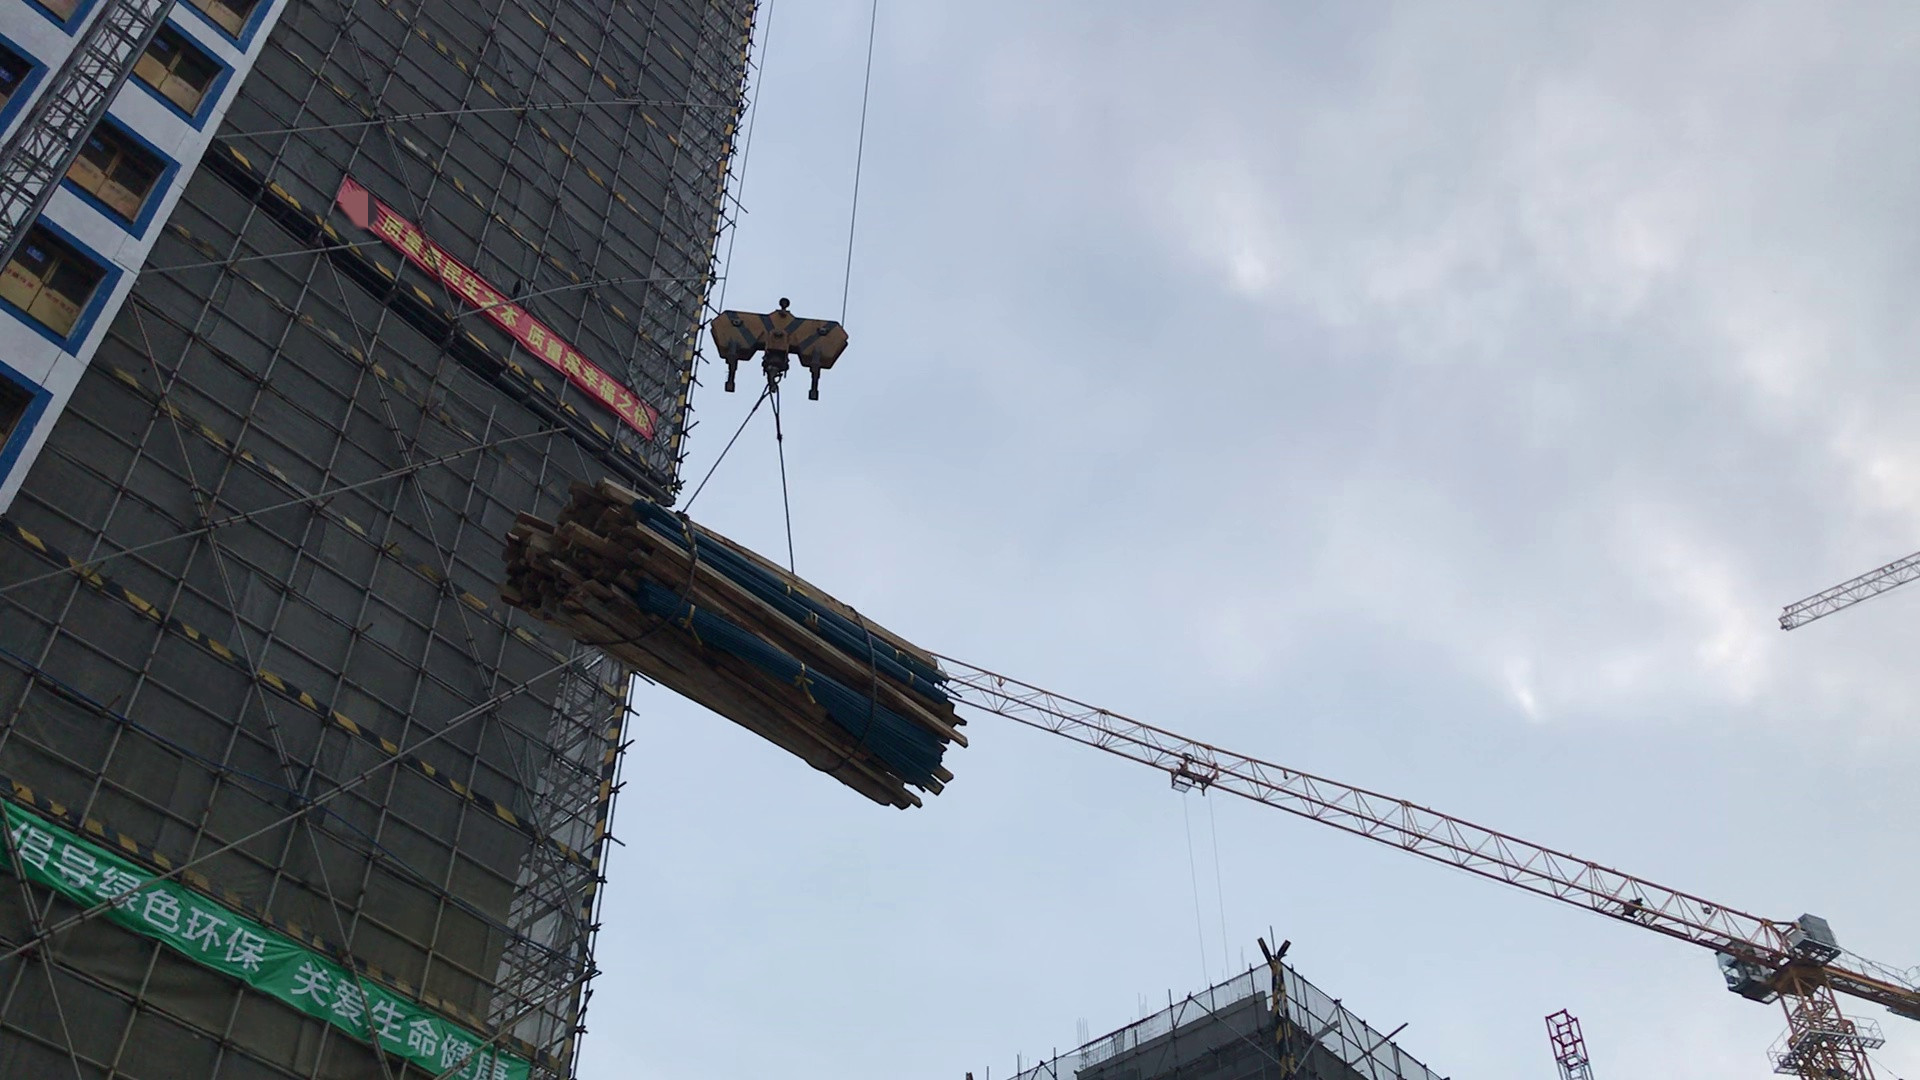hook: (696, 284, 866, 434)
slogan: (3, 803, 541, 1080), (316, 174, 679, 440)
wood: (498, 462, 985, 837)
